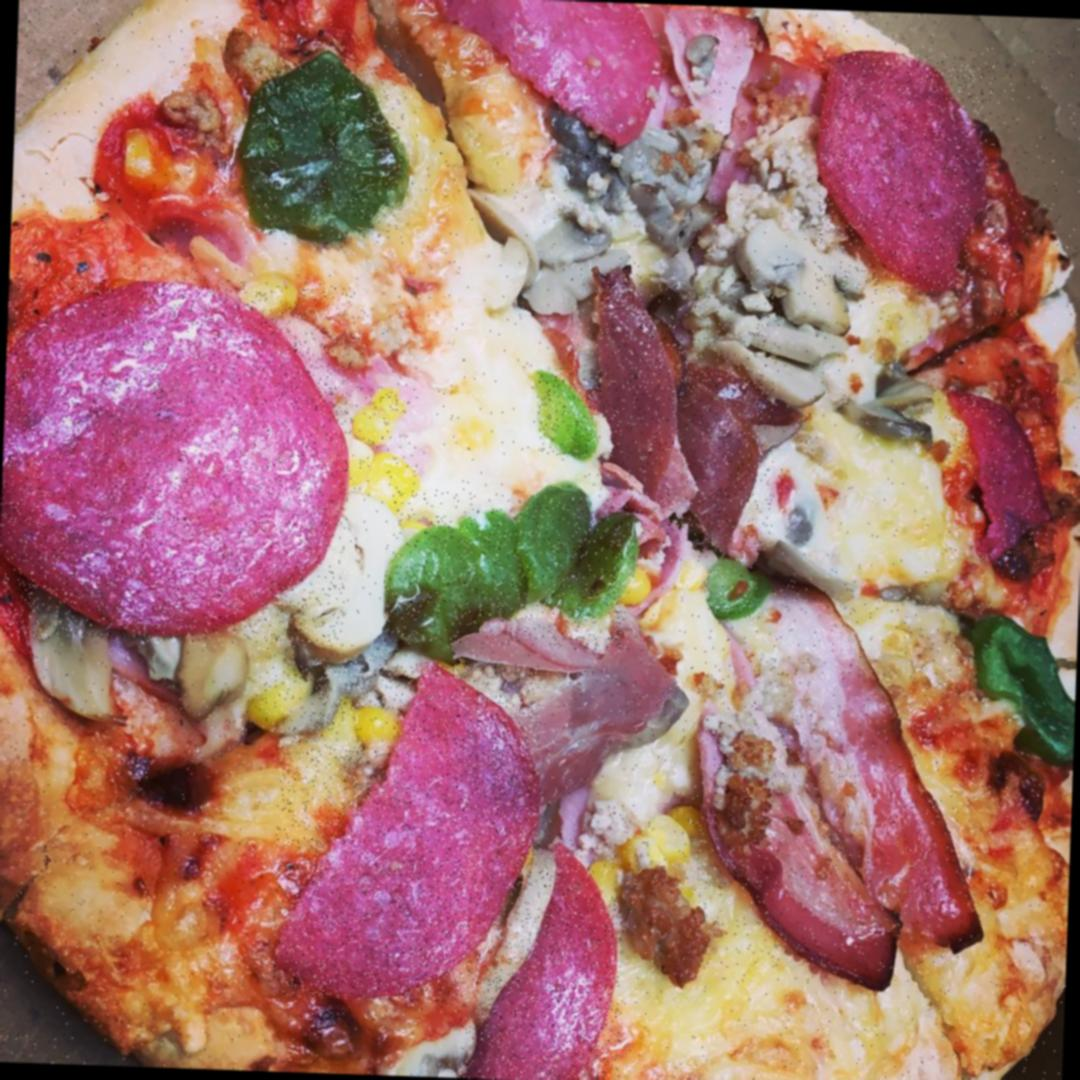Bacon: (688, 574, 992, 988)
Corn: (590, 801, 704, 900), (350, 386, 419, 513), (245, 675, 311, 732), (353, 700, 404, 750)
Ham: (592, 272, 782, 552)
Pepperoni: (0, 272, 355, 646), (271, 656, 542, 1005), (814, 51, 996, 298), (457, 840, 627, 1080), (421, 0, 668, 148), (941, 386, 1050, 562)
Peppers: (382, 491, 636, 653), (248, 59, 406, 238), (970, 610, 1078, 773), (536, 367, 598, 455)
Pizza: (0, 0, 1080, 1080)
